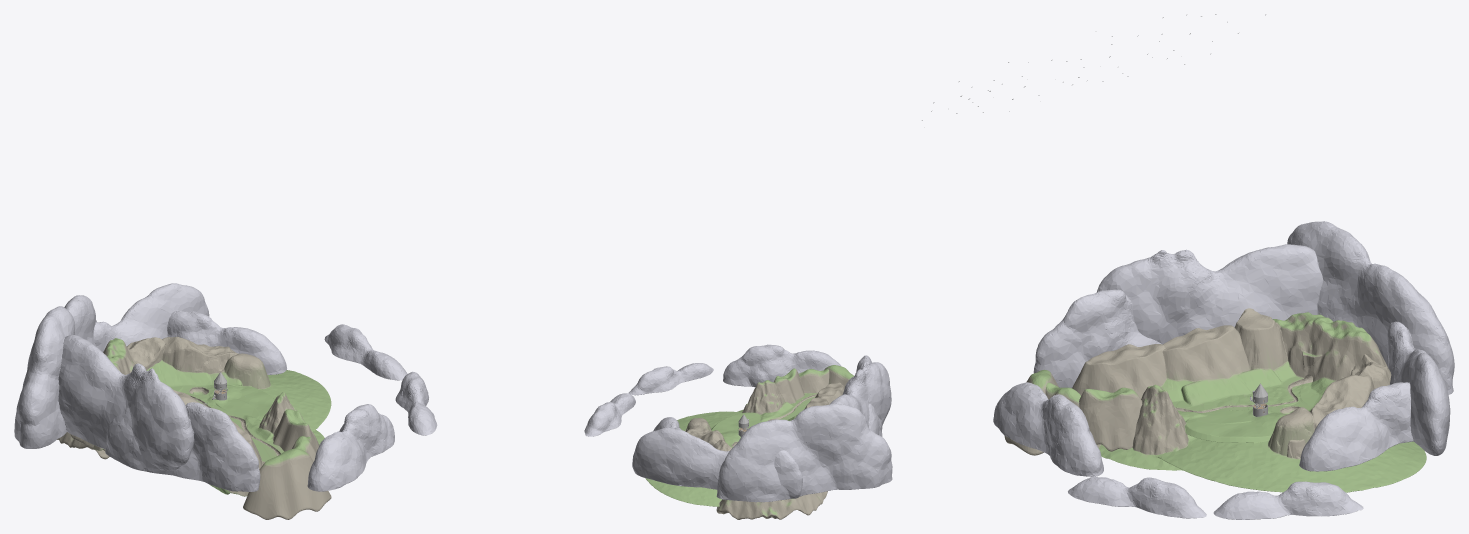
File: BstBaked.glb
3 views of the same model, side by side, from view 1: azimuth 30°, elevation 25°; view 2: azimuth 150°, elevation 25°; view 3: azimuth 270°, elevation 25° (orthographic). The views are drawn at different scales.
Parts seen in each view (by area): view 1: BstBaked_cloud, BstBaked_terrain; view 2: BstBaked_cloud, BstBaked_terrain; view 3: BstBaked_cloud, BstBaked_terrain.
Boxes of the visible parts, <box> form: BstBaked_cloud: <box>14,283,437,491</box>; BstBaked_terrain: <box>57,336,331,519</box>; BstBaked_cloud: <box>584,344,892,502</box>; BstBaked_terrain: <box>645,365,853,519</box>; BstBaked_cloud: <box>993,221,1454,519</box>; BstBaked_terrain: <box>1004,308,1426,492</box>.
Size of what is drawn, in the model's own units: 2692 by 2935 by 2700.
